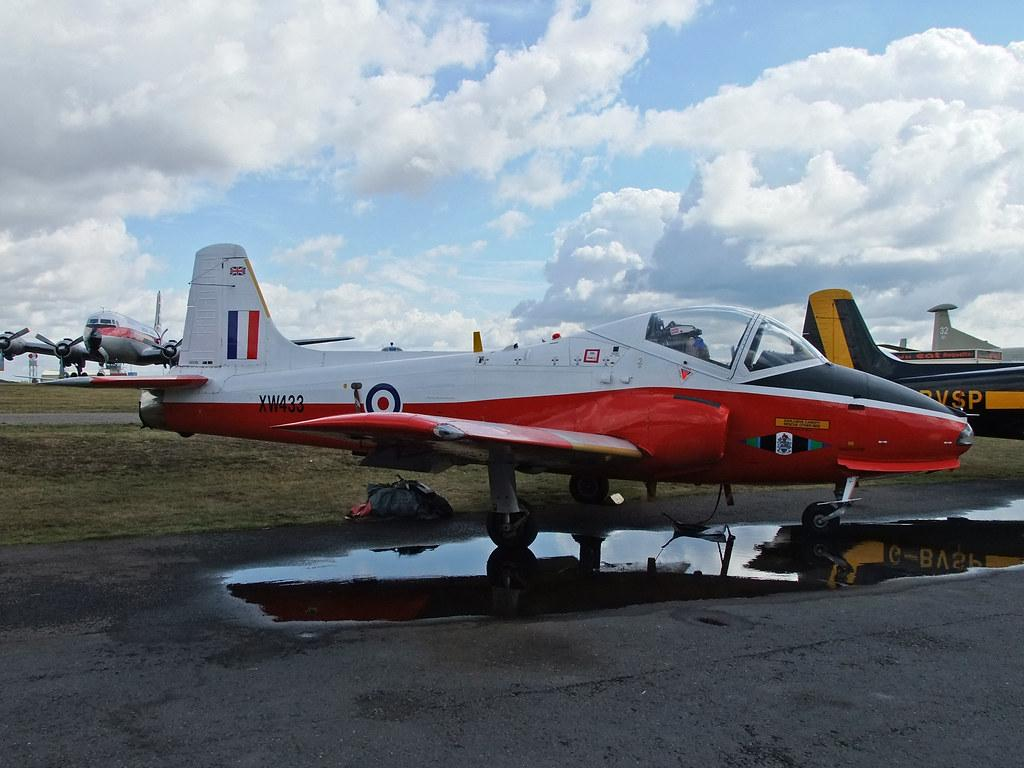plane: (57, 242, 977, 548), (802, 288, 1024, 442), (1, 291, 183, 379)
